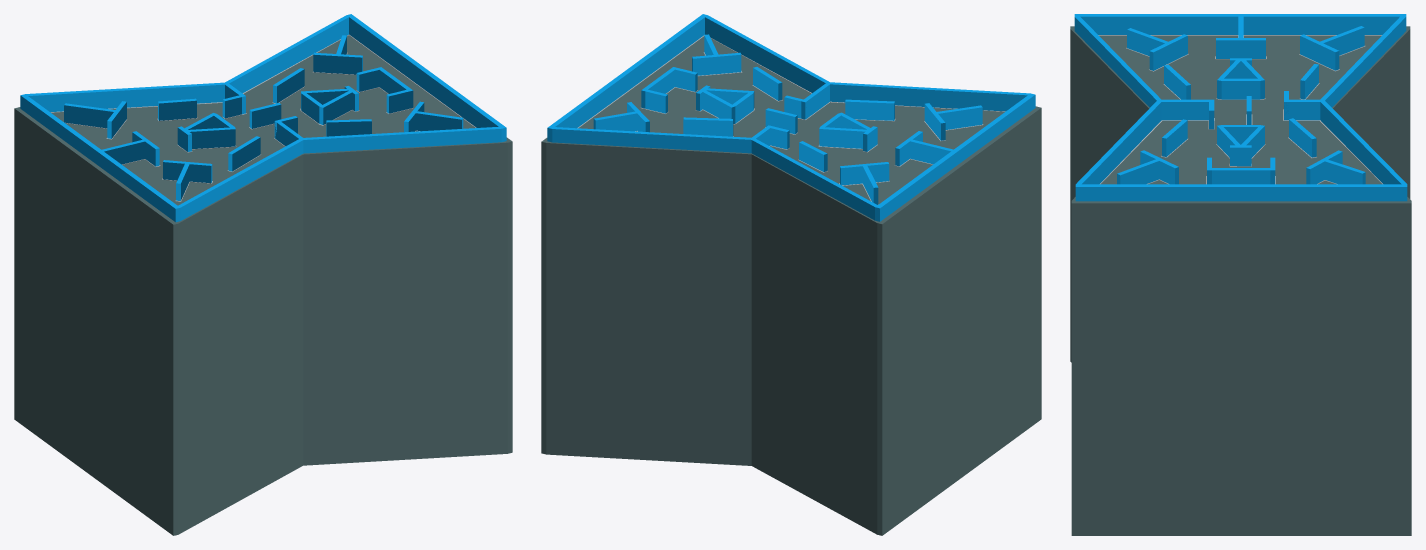
Rendered from Level_5.FBX.
3 views of the same model, side by side, from view 1: azimuth 30°, elevation 25°; view 2: azimuth 150°, elevation 25°; view 3: azimuth 270°, elevation 25° (orthographic). The views are drawn at different scales.
Parts seen in each view (by area): view 1: Level_5; view 2: Level_5; view 3: Level_5.
Part boxes in pixels (x1,y1,x2,y2): Level_5: (14, 14, 512, 535); Level_5: (541, 14, 1041, 535); Level_5: (1070, 14, 1411, 535).
Bounding box in the file's own units: 270 × 247 × 220.
